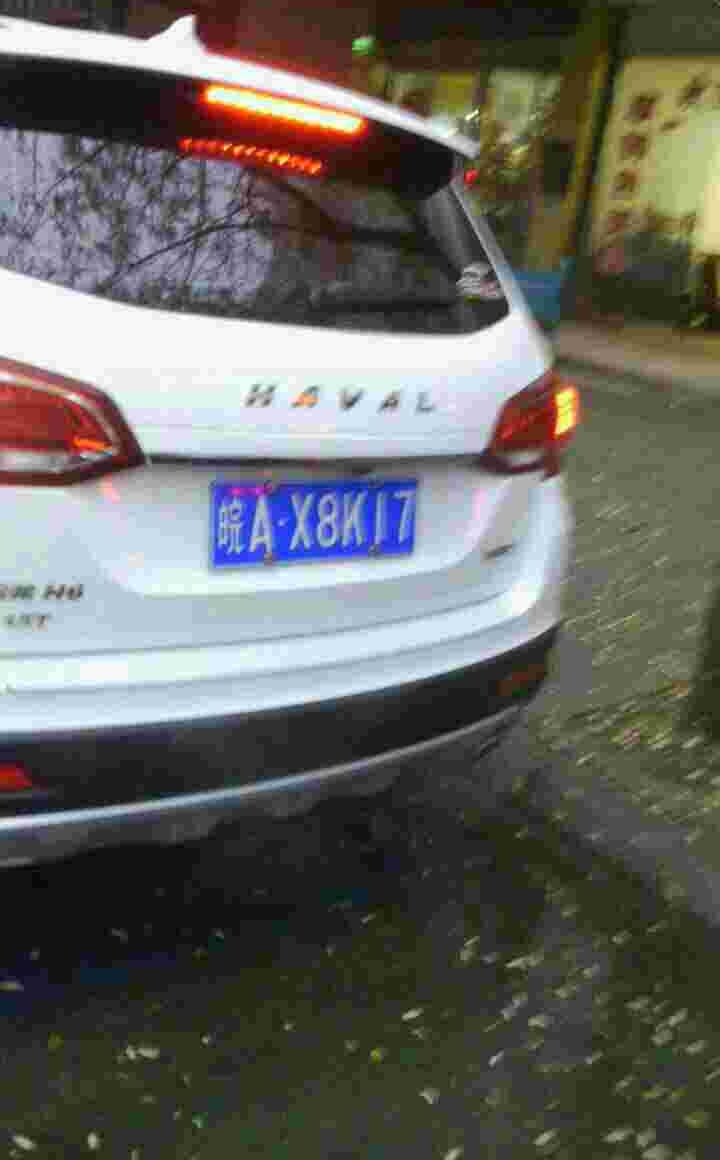license_plate: (208, 477, 417, 563)
